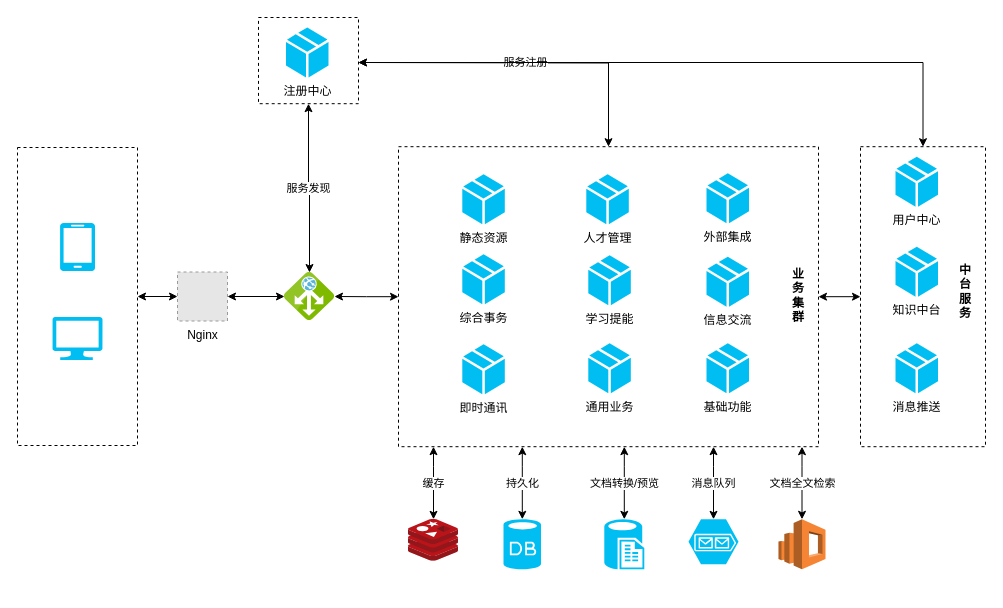
Image size: 1003x608. Some labels were removed from this diagram. Grey dashed boxes stand in for pictures. The centre of each missing label's shape, as x and y in pixels:
ES: the point at 802,543
Oracle: the point at 521,544
RabbitMQ: the point at 713,541
Redis: the point at 433,540
文档转换: the point at 624,544
网关/安全: the point at 309,296
